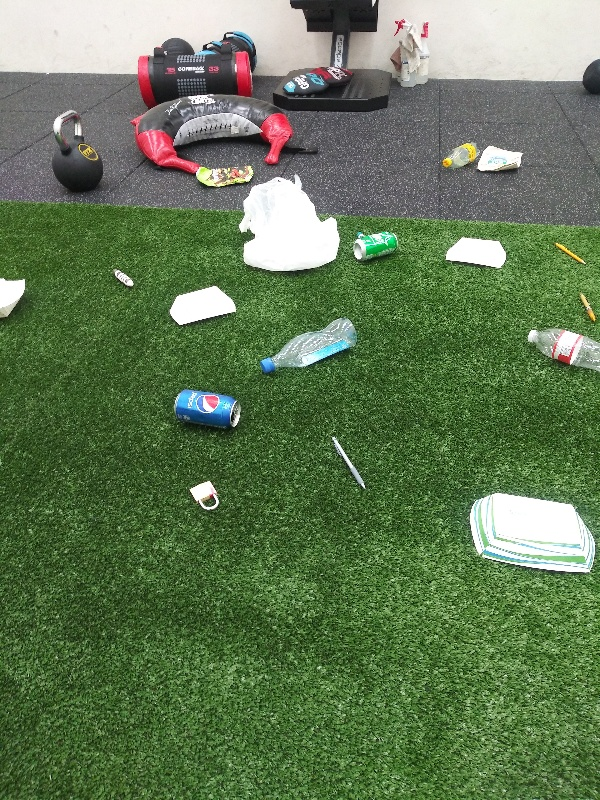bag: (473, 144, 528, 177), (191, 162, 255, 188)
bottle: (255, 314, 358, 373), (521, 325, 600, 375), (434, 139, 483, 172)
can: (169, 385, 243, 435), (351, 225, 401, 265)
plate: (464, 492, 600, 577), (165, 283, 244, 328), (441, 233, 510, 273), (1, 271, 29, 329)
